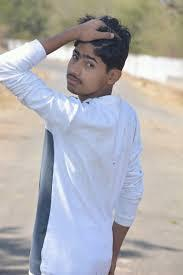Human: (6, 13, 155, 275)
